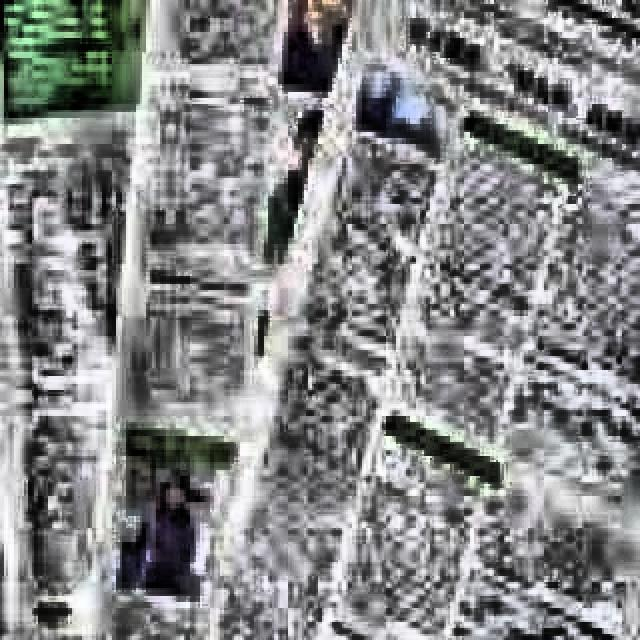paper: (82, 0, 640, 640), (166, 0, 640, 640), (0, 0, 470, 640), (0, 0, 386, 640)
